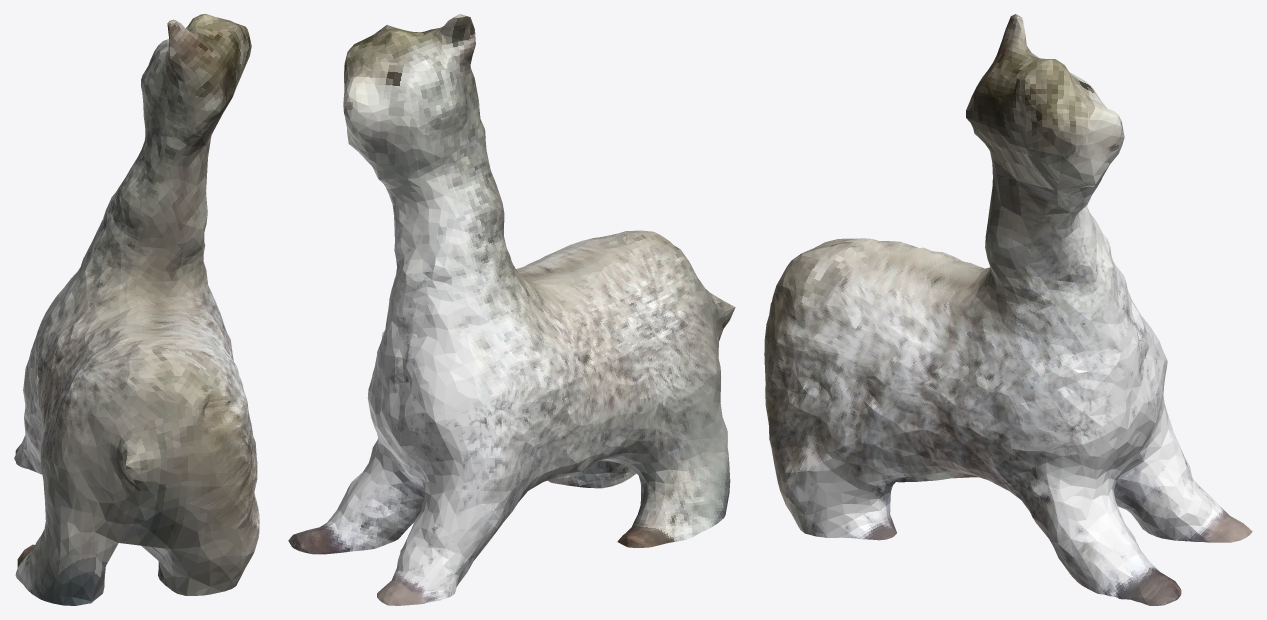
File: llama.glb
The picture shows the model from 3 angles, left to right: view 1: azimuth 30°, elevation 25°; view 2: azimuth 150°, elevation 25°; view 3: azimuth 270°, elevation 25°; orthographic projection. The views are drawn at different scales.
Bounding box in the file's own units: 0.3031 × 0.4748 × 0.3926.
1 material, 1 textured.
